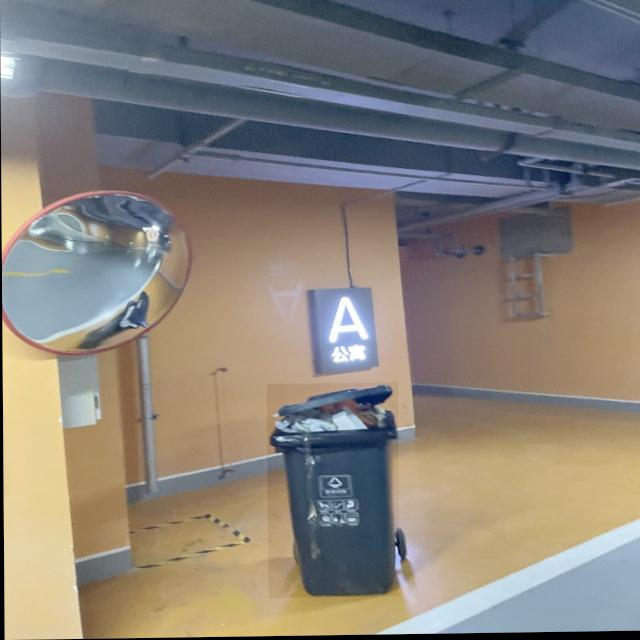overflow: (266, 384, 399, 599)
